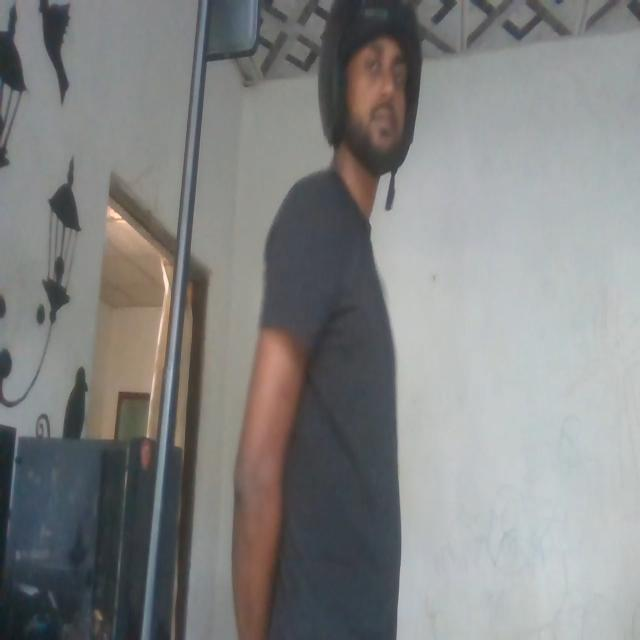Helmet_Wearer: (316, 0, 429, 237)
Person: (236, 0, 418, 640)
